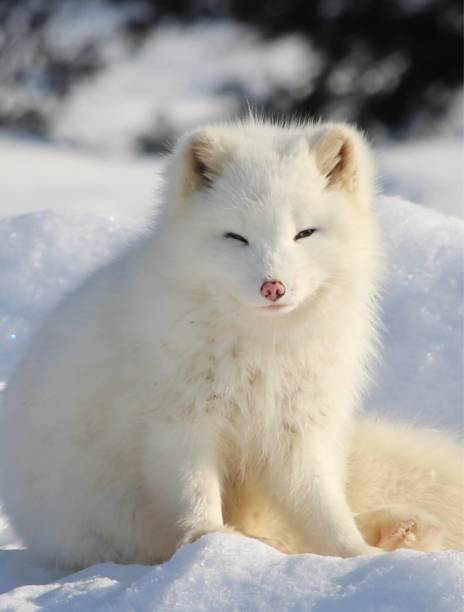arcticfox: (196, 146, 355, 340)
